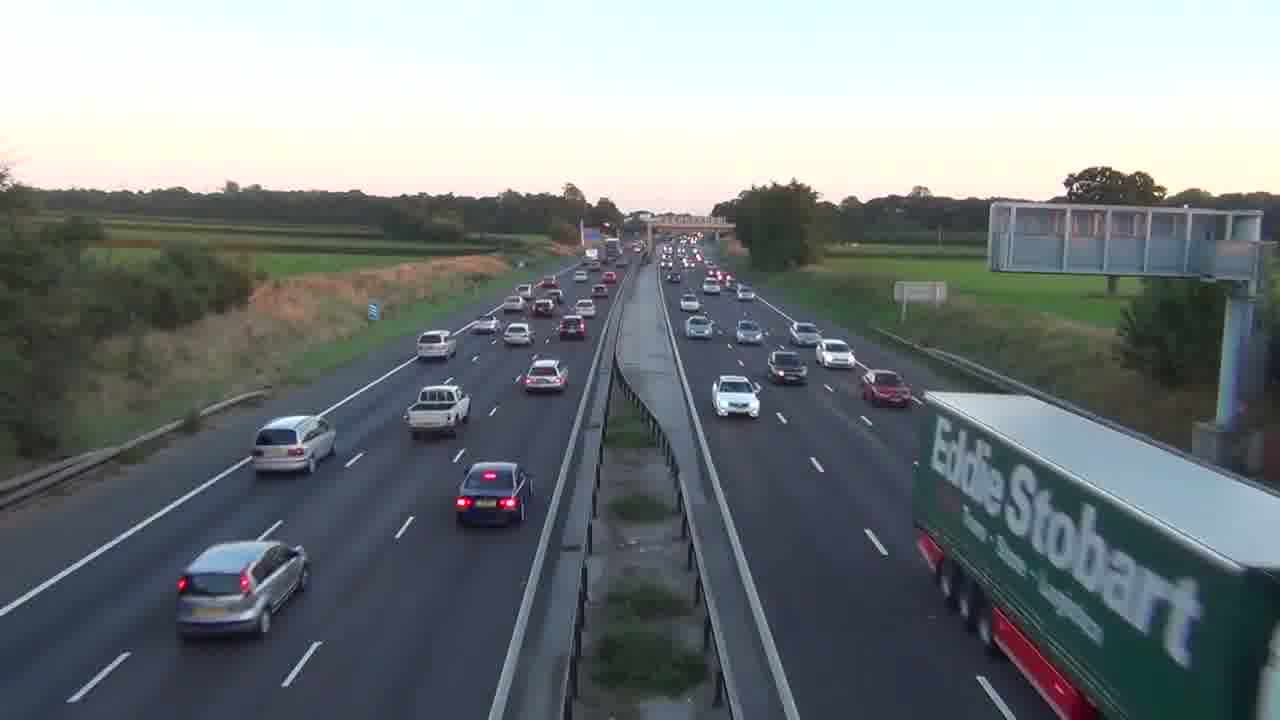car: (174, 538, 310, 639), (453, 460, 534, 527), (251, 413, 337, 475), (403, 383, 471, 438), (711, 373, 761, 418), (860, 369, 914, 408), (520, 357, 568, 393), (767, 347, 808, 385), (416, 329, 456, 360), (815, 338, 855, 368), (685, 314, 715, 340), (503, 321, 533, 347)
truck: (911, 391, 1279, 717)
